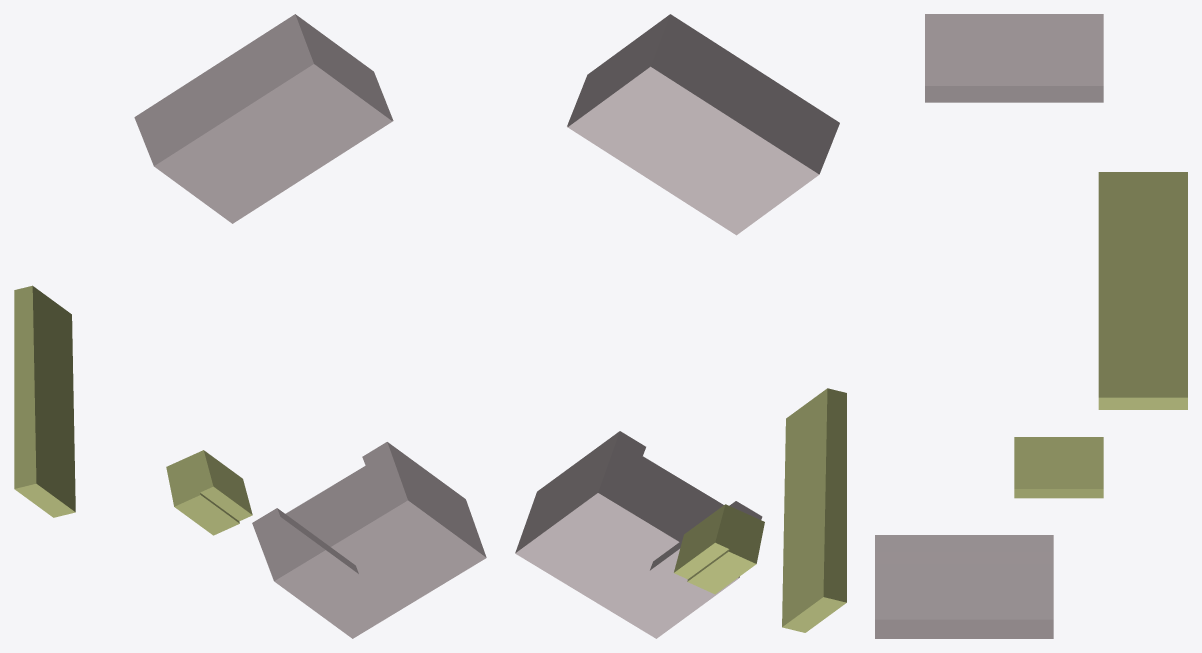
3 views of the same model, side by side, from view 1: azimuth 30°, elevation 25°; view 2: azimuth 150°, elevation 25°; view 3: azimuth 270°, elevation 25° (orthographic). The views are drawn at different scales.
Visible parts, largest first — view 1: 0_0_1_1_3_2_3_1; view 2: 0_0_1_1_3_2_3_1; view 3: 0_0_1_1_3_2_3_1.
Boxes of the visible parts, box(x1,y1,x2,y2) form: 0_0_1_1_3_2_3_1: box(14, 14, 486, 638); 0_0_1_1_3_2_3_1: box(515, 14, 846, 638); 0_0_1_1_3_2_3_1: box(875, 14, 1187, 638).
Size of the model in its own units: 44.18 by 68.23 by 31.55.
